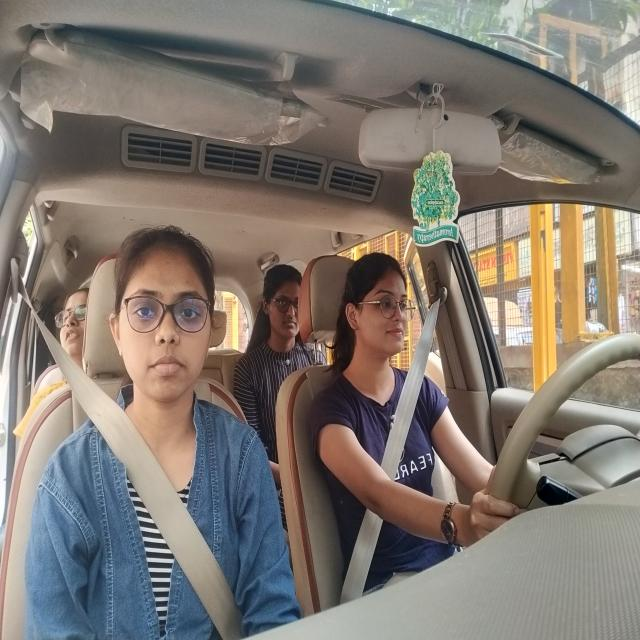person: (110, 222, 218, 410), (342, 246, 418, 374), (259, 260, 306, 349), (55, 282, 90, 373)
